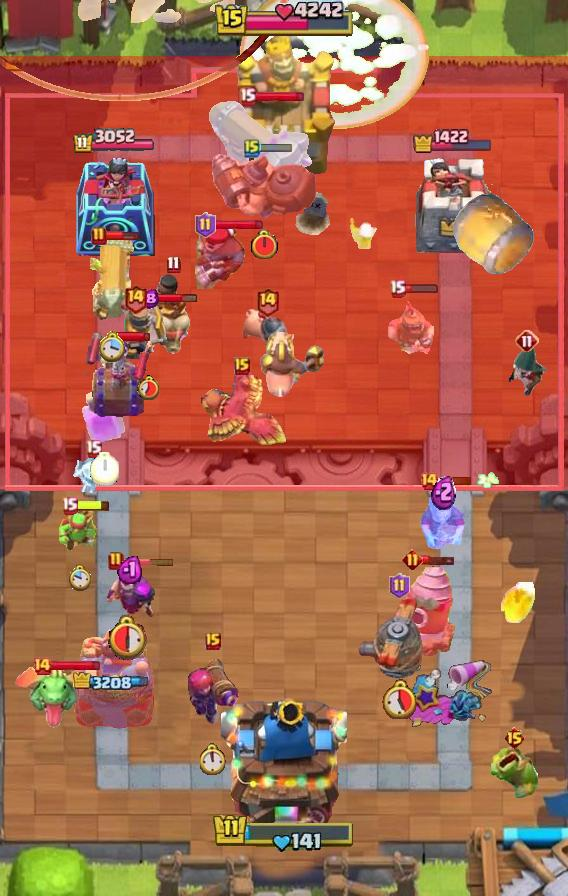bat: (70, 451, 116, 495)
battle-healer: (90, 238, 136, 322)
clock: (212, 812, 356, 854), (213, 0, 355, 40)
dark-prince: (354, 596, 444, 680)
dirt: (450, 190, 536, 278)
earthquake: (121, 297, 177, 359), (386, 293, 436, 361)
electro-spirit: (431, 474, 456, 510), (117, 554, 142, 584), (139, 289, 159, 309)
electro-wizard: (12, 666, 96, 728)
elite-barbarian: (151, 274, 195, 356)
elixir: (108, 612, 151, 659), (382, 679, 416, 719), (90, 452, 119, 486), (250, 229, 279, 261), (99, 330, 127, 362), (201, 743, 228, 775), (68, 564, 91, 592), (137, 376, 161, 401)
emote: (212, 217, 264, 231), (255, 90, 306, 103), (51, 660, 102, 673), (146, 292, 199, 303), (121, 557, 175, 567), (75, 499, 111, 512), (115, 331, 151, 343), (420, 554, 456, 566), (105, 230, 140, 242), (403, 283, 439, 294), (258, 143, 293, 154), (437, 476, 472, 486)
executioner: (240, 307, 294, 353)
flying-machine: (490, 746, 538, 798)
freeze: (259, 332, 325, 402)
furnace: (206, 97, 314, 207)
giant-snowball: (58, 507, 100, 553)
heal-spirit: (348, 217, 378, 249)
king-tower: (221, 690, 347, 826), (231, 35, 337, 182)
knight-evolution: (82, 388, 126, 445)
magic-archer: (391, 562, 457, 660)
mega-minion: (186, 652, 240, 726)
mortar: (418, 484, 468, 552)
mother-witch: (194, 374, 290, 450)
phoenix-big: (239, 0, 429, 128)
phoenix-small: (189, 225, 247, 289)
queen-tower: (72, 627, 156, 731), (73, 158, 155, 256), (413, 157, 493, 256)
rascal-girl: (102, 564, 156, 622)
royal-ghost: (0, 0, 292, 100)
selected: (72, 128, 156, 155), (412, 128, 494, 154), (73, 672, 155, 694)
skeleton-king-bar: (84, 333, 152, 419)
tesla: (505, 345, 549, 399)
text: (124, 282, 149, 313), (256, 287, 280, 318), (515, 329, 539, 353), (195, 212, 217, 238), (503, 726, 526, 750), (389, 573, 410, 599), (401, 549, 422, 571), (419, 471, 439, 491), (32, 656, 52, 676), (85, 439, 103, 457), (389, 279, 406, 298), (244, 138, 260, 158), (91, 226, 107, 246), (108, 551, 124, 571), (240, 87, 257, 105), (61, 497, 78, 515), (234, 357, 250, 375), (205, 632, 221, 650), (167, 255, 181, 273)
valkyrie: (499, 582, 537, 628)
wizard: (208, 151, 320, 221)
